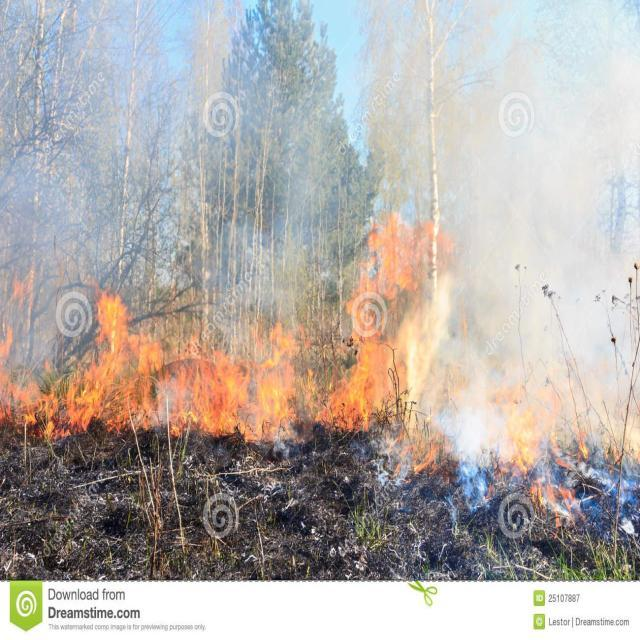Fire: (331, 214, 471, 438), (189, 285, 316, 473), (66, 290, 168, 432), (0, 282, 86, 442), (97, 291, 127, 353)
Smoke: (475, 46, 612, 352)
